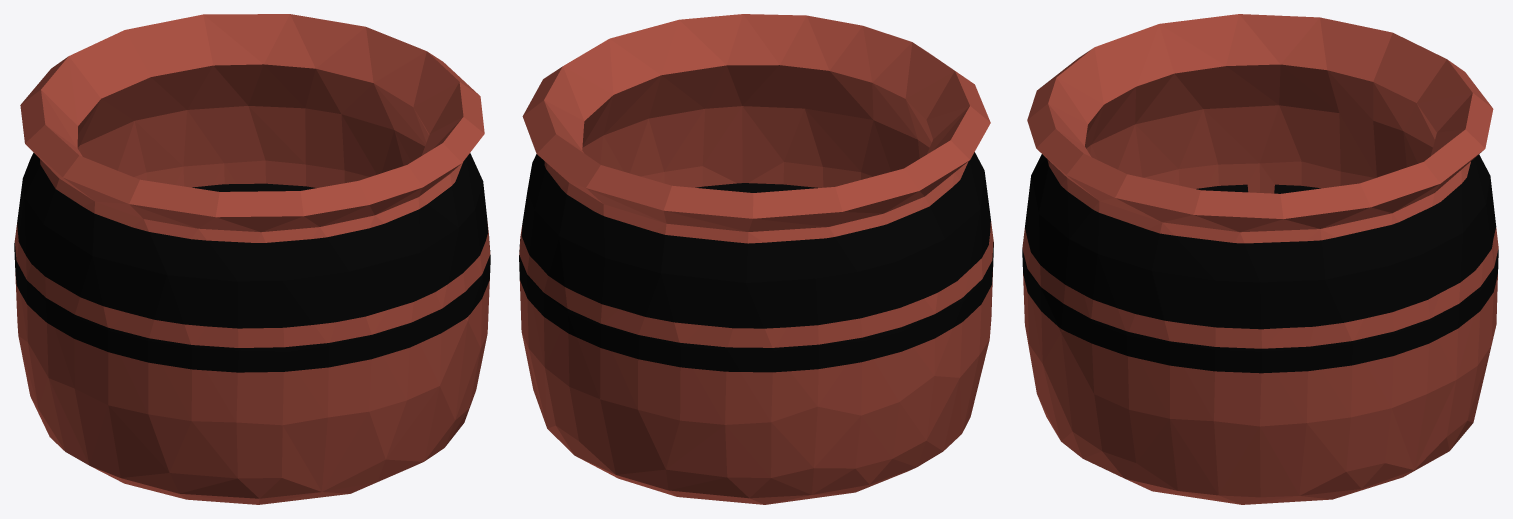
The model's file is Pottery 14_1.fbx.
The picture shows the model from 3 angles, left to right: view 1: azimuth 30°, elevation 25°; view 2: azimuth 150°, elevation 25°; view 3: azimuth 270°, elevation 25°; orthographic projection.
Visible parts, largest first — view 1: Pottery 14_1; view 2: Pottery 14_1; view 3: Pottery 14_1.
Boxes of the visible parts, left/top/right/bottom form: Pottery 14_1: left=14, top=14, right=490, bottom=504; Pottery 14_1: left=519, top=14, right=993, bottom=504; Pottery 14_1: left=1022, top=14, right=1498, bottom=504.
Bounding box in the file's own units: 51.71 × 39.4 × 51.68.
